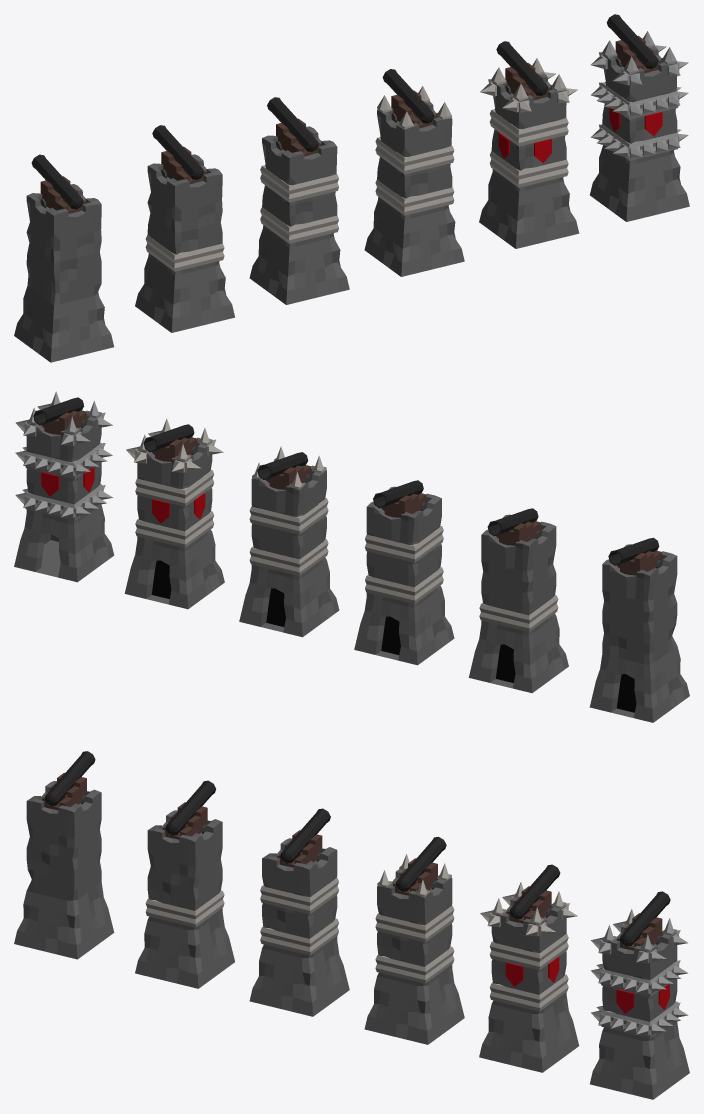
Rendered from all_cannon_td_tower_levels.fbx.
The picture shows the model from 3 angles, top to bottom: view 1: azimuth 30°, elevation 25°; view 2: azimuth 150°, elevation 25°; view 3: azimuth 330°, elevation 25°; orthographic projection.
Parts seen in each view (by area): view 1: Cube.007, Cube.005, Cube.012, Cube.003, Cube.001, Cube.036, Cylinder.003, Cylinder.005, Cylinder.010, Cylinder.011, Cylinder.006, Cylinder.013 (+6 smaller); view 2: Cube.007, Cube.005, Cube.012, Cube.003, Cube.001, Cube.036, Cylinder.010, Cylinder.011, Cylinder.005, Cylinder.013, Cylinder.003, Cylinder.006 (+6 smaller); view 3: Cube.007, Cube.005, Cube.012, Cube.003, Cube.001, Cube.036, Cylinder.003, Cylinder.011, Cylinder.013, Cylinder.010, Cylinder.005, Cylinder.006 (+6 smaller).
Boxes of the visible parts, bbox=[...] form: Cube.007: bbox=[590, 31, 689, 221]; Cube.005: bbox=[479, 58, 579, 248]; Cube.012: bbox=[364, 86, 464, 276]; Cube.003: bbox=[249, 126, 349, 304]; Cube.001: bbox=[135, 154, 235, 332]; Cube.036: bbox=[14, 184, 113, 362]; Cylinder.003: bbox=[31, 154, 83, 209]; Cylinder.005: bbox=[152, 125, 203, 179]; Cylinder.010: bbox=[382, 69, 434, 123]; Cylinder.011: bbox=[496, 41, 547, 95]; Cylinder.006: bbox=[267, 97, 318, 151]; Cylinder.013: bbox=[606, 14, 658, 68]; Cube.007: bbox=[14, 391, 114, 582]; Cube.005: bbox=[124, 418, 224, 609]; Cube.012: bbox=[239, 446, 339, 637]; Cube.003: bbox=[354, 486, 454, 665]; Cube.001: bbox=[468, 514, 568, 693]; Cube.036: bbox=[589, 544, 689, 722]; Cylinder.010: bbox=[257, 452, 308, 479]; Cylinder.011: bbox=[143, 424, 194, 452]; Cylinder.005: bbox=[487, 508, 538, 536]; Cylinder.013: bbox=[33, 397, 83, 425]; Cylinder.003: bbox=[608, 537, 659, 565]; Cylinder.006: bbox=[373, 480, 423, 508]; Cube.007: bbox=[590, 909, 689, 1099]; Cube.005: bbox=[479, 882, 579, 1072]; Cube.012: bbox=[364, 854, 464, 1044]; Cube.003: bbox=[249, 838, 349, 1016]; Cube.001: bbox=[135, 810, 234, 988]; Cube.036: bbox=[14, 781, 114, 959]; Cylinder.003: bbox=[44, 751, 95, 806]; Cylinder.011: bbox=[509, 864, 560, 919]; Cylinder.013: bbox=[620, 891, 670, 946]; Cylinder.010: bbox=[395, 836, 446, 891]; Cylinder.005: bbox=[165, 780, 215, 835]; Cylinder.006: bbox=[280, 808, 330, 863].
Bounding box in the file's own units: 56.52 × 14.31 × 7.3.
